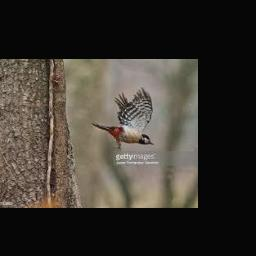Woodpecker: (92, 87, 154, 150)
